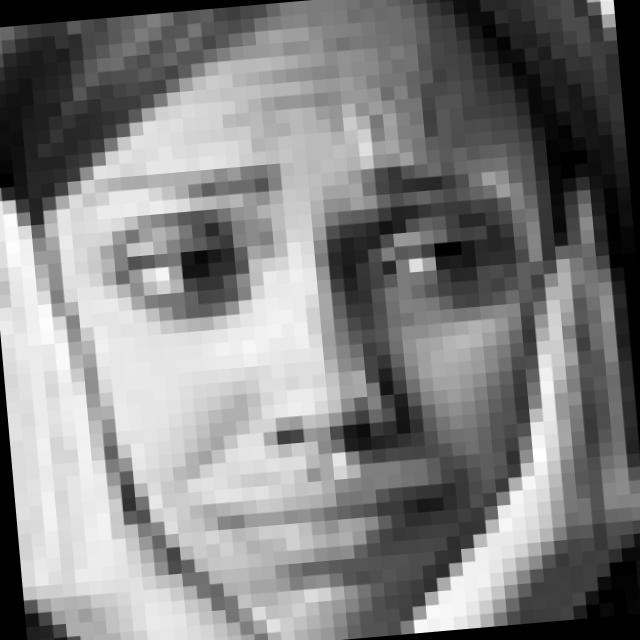sad: (76, 111, 554, 618)
